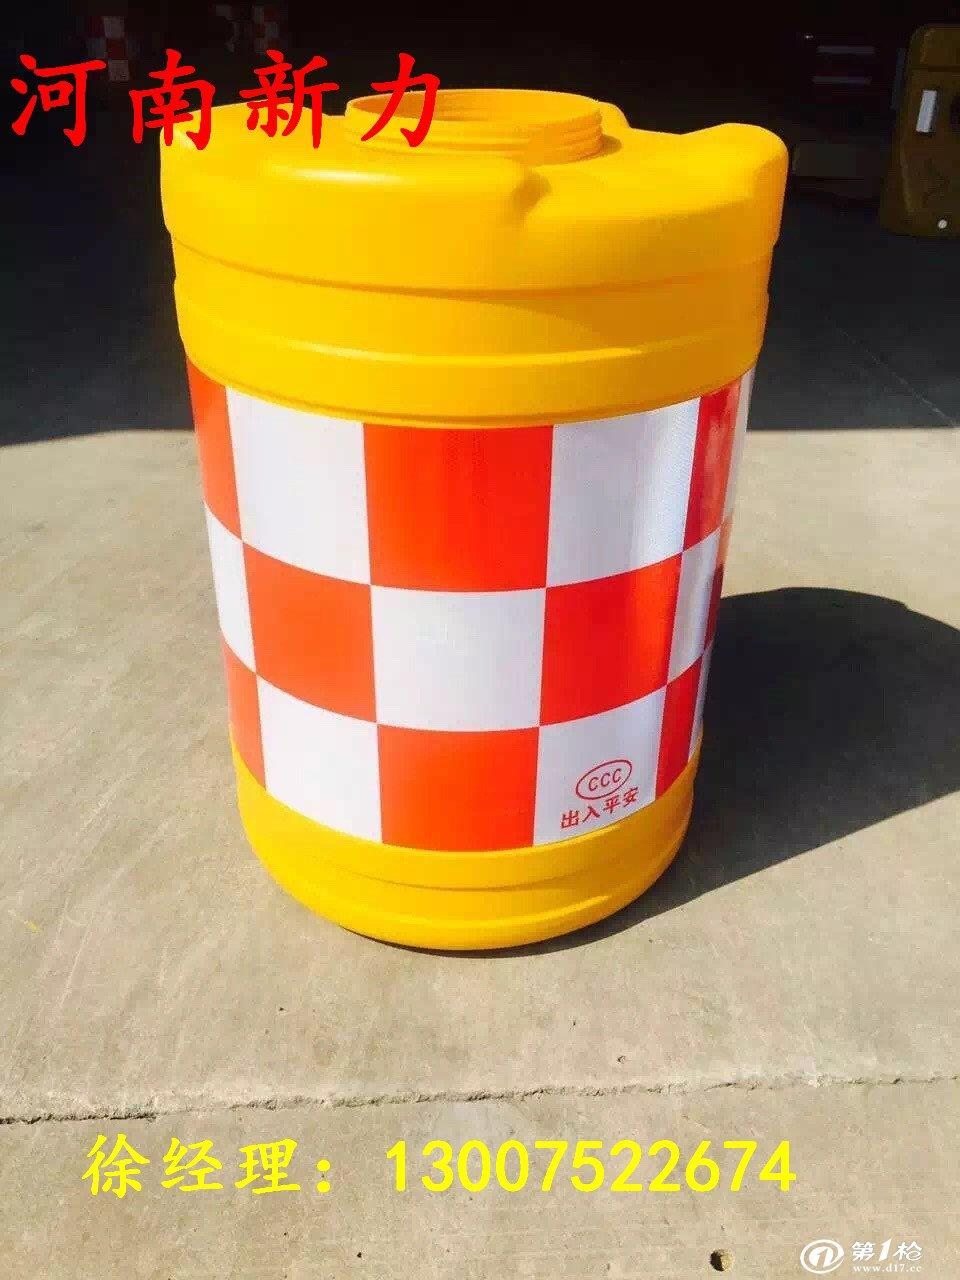sign: (134, 72, 705, 969)
